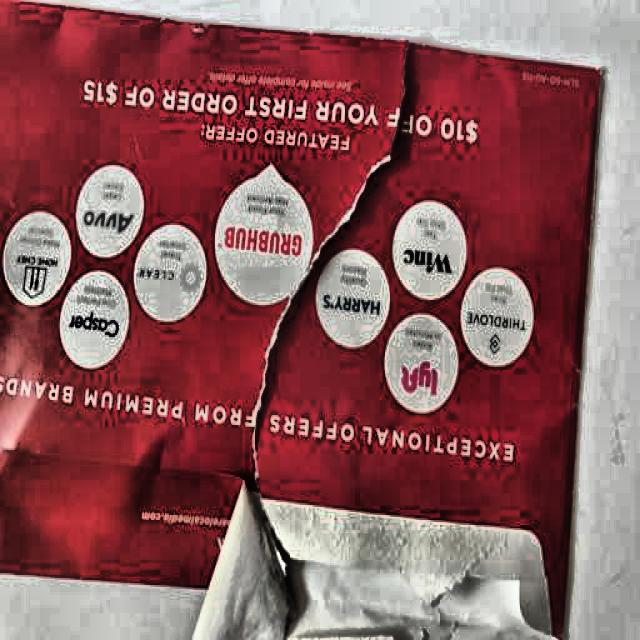paper: (0, 6, 605, 640)
